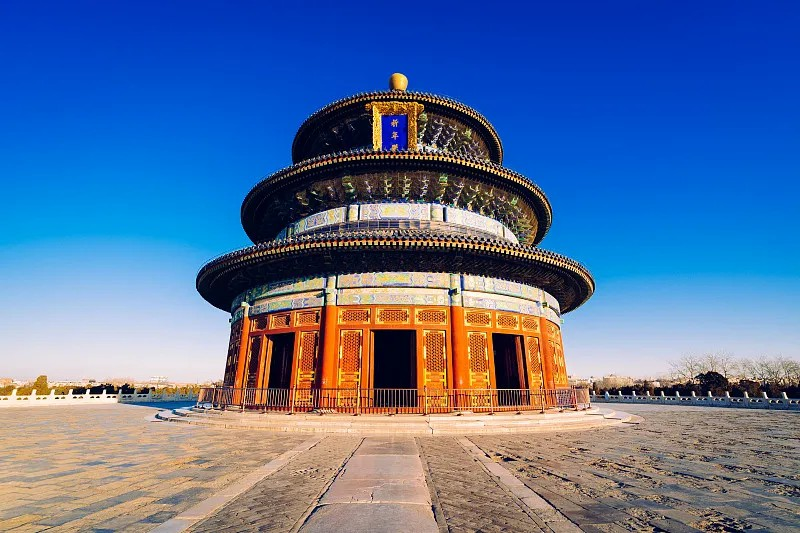Heaven: (196, 71, 596, 413)
